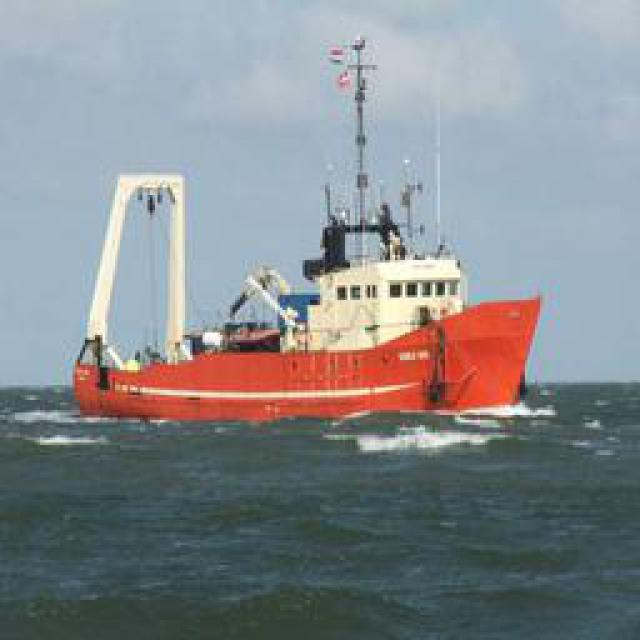Ship: (73, 56, 541, 421)
